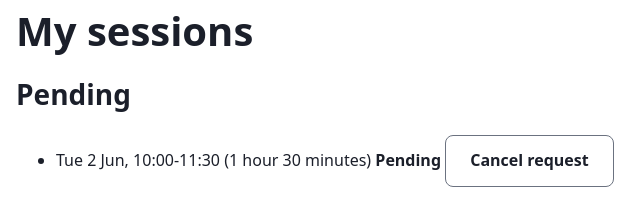
it: MySessionsPage › cancels a pending request immediately
The image size is (631, 204).
Click the button "Cancel request": point(529, 161) [445,135,614,187]
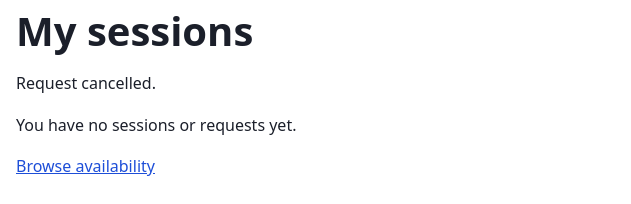
Now the text "Request cancelled." is shown, box [16,72,156,94]
